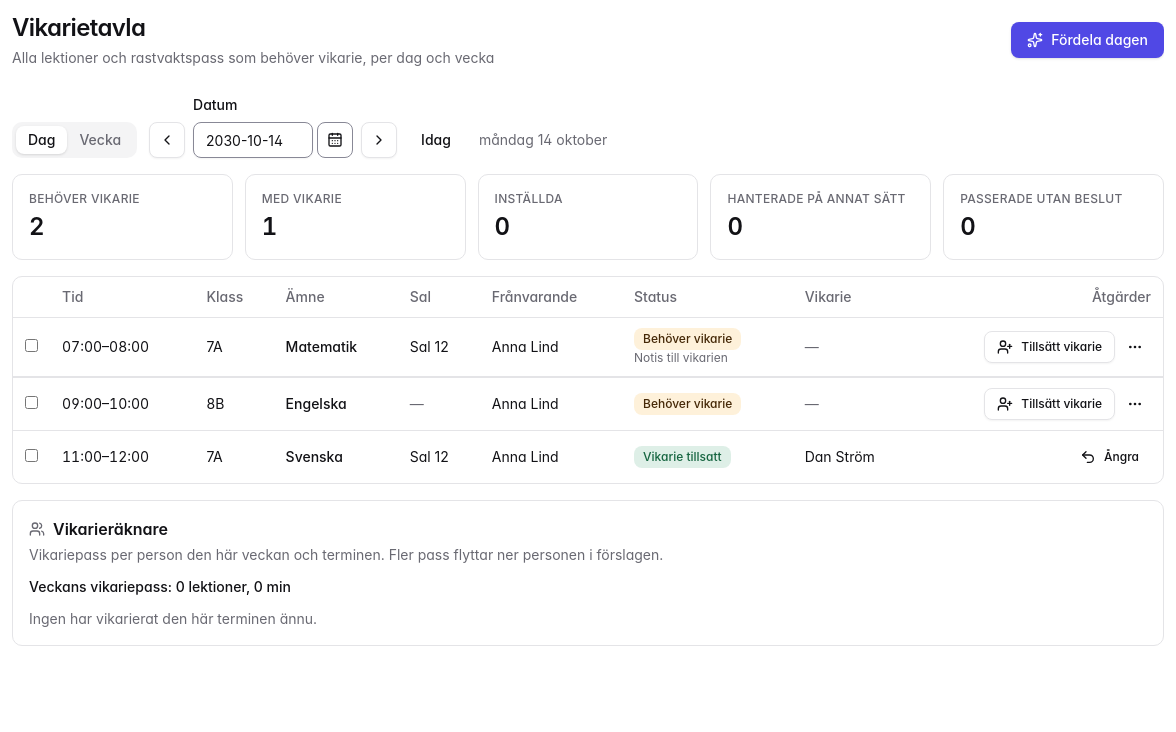
Vikarietavla › drops the publication banner once the board has been read again
The image size is (1176, 732).
Check: the cell "Matematik" is shown, box top-left (274, 318), bottom-right (398, 376)
Click the button named "Fler val" at (1135, 346), box top-left (1119, 330), bottom-right (1151, 362)
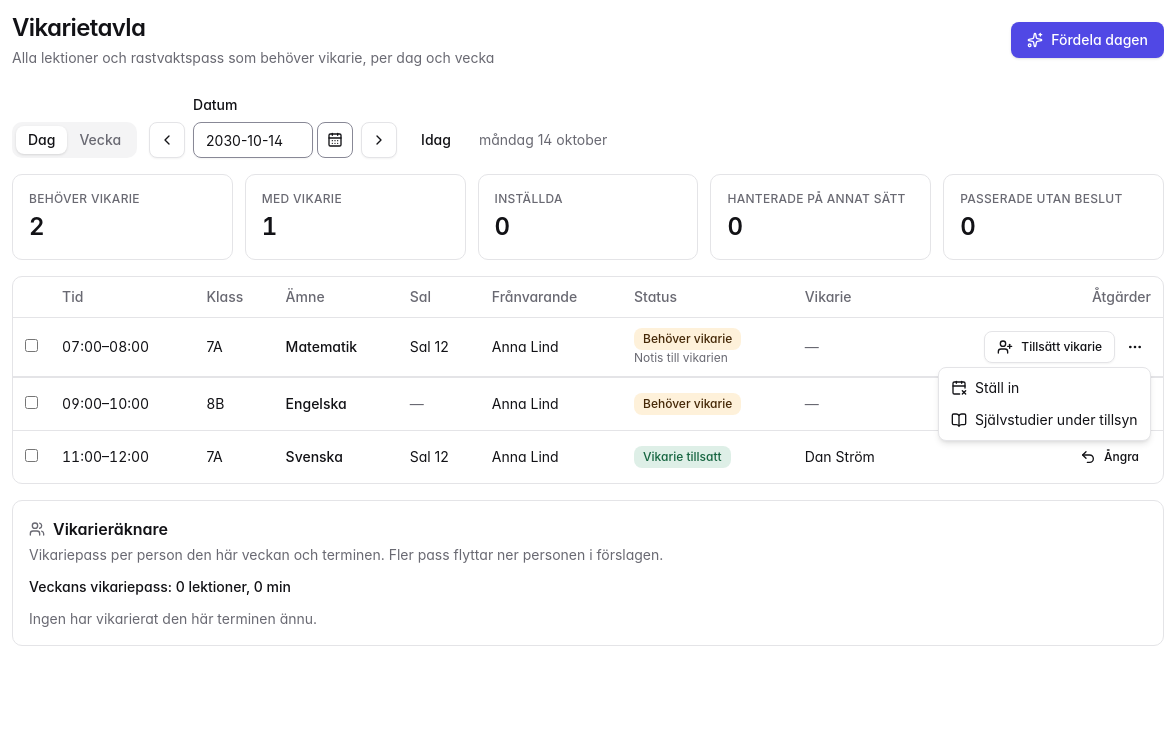
Click the menu item "Självstudier under tillsyn" at (1044, 420), box top-left (951, 411), bottom-right (1138, 428)
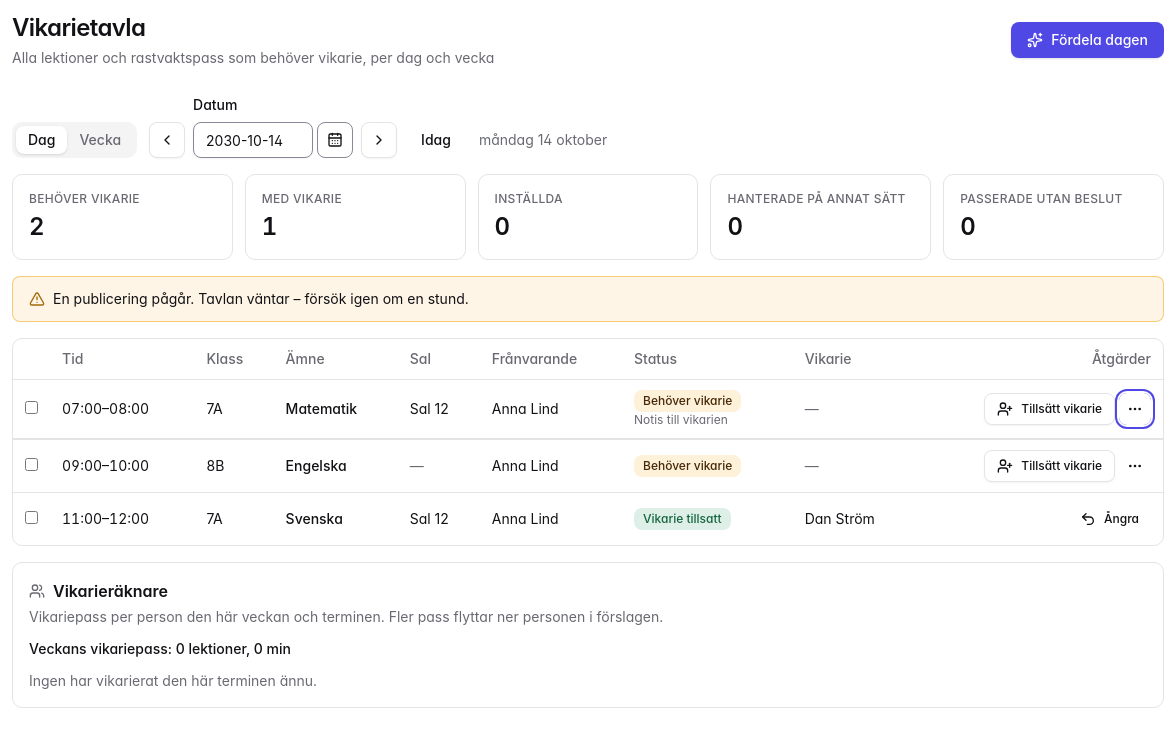
Check: the text "En publicering pågår. Tavlan väntar – försök igen om en stund." is shown, box top-left (53, 290), bottom-right (469, 307)
# The next read of the board (another day, a realtime refetch, the poll) is after the publish.
Click the button named "Nästa" at (379, 140), box top-left (361, 122), bottom-right (397, 158)
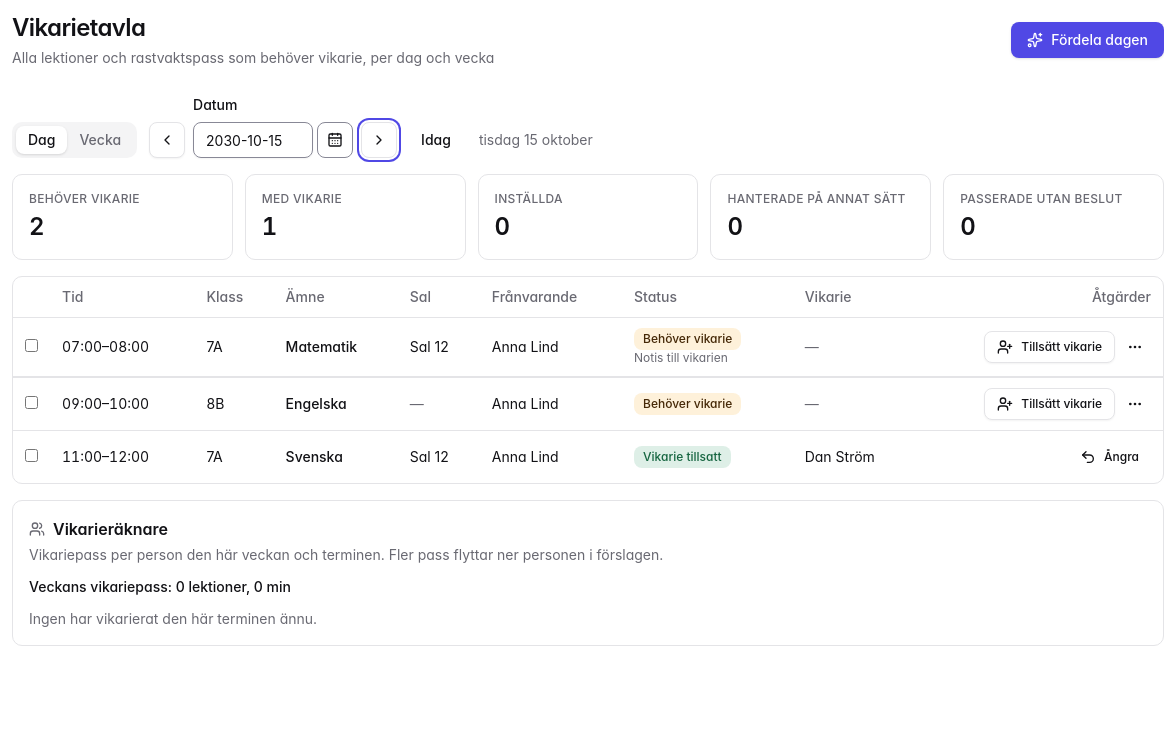
Check: the text "En publicering pågår. Tavlan väntar – försök igen om en stund." is gone
